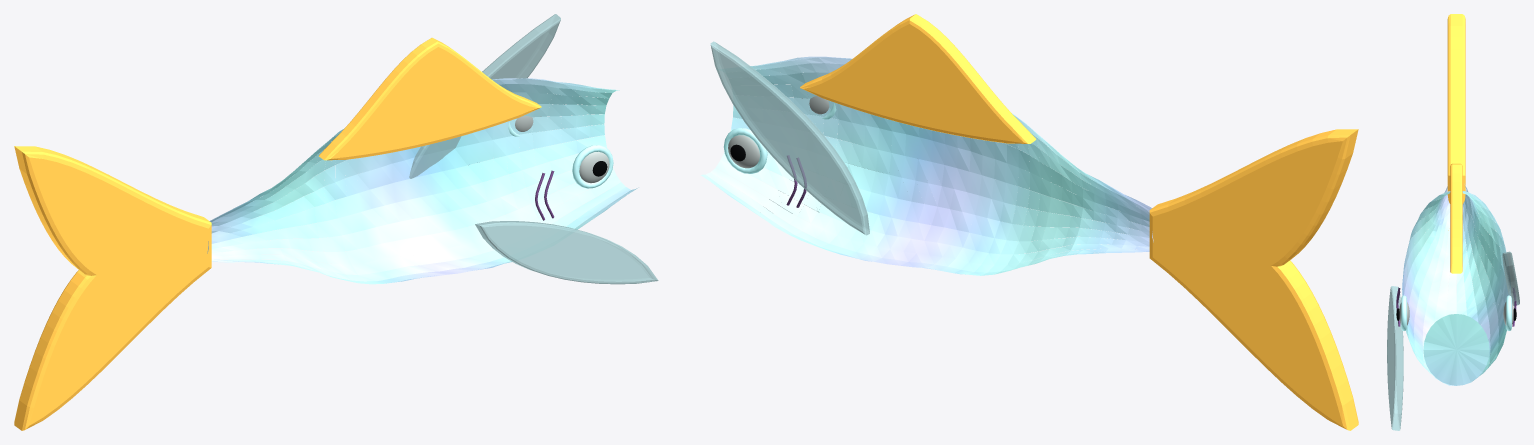
The model's file is prism-fish.glb.
3 views of the same model, side by side, from view 1: azimuth 30°, elevation 25°; view 2: azimuth 150°, elevation 25°; view 3: azimuth 270°, elevation 25° (orthographic). The views are drawn at different scales.
Visible parts, largest first — view 1: body, tail_fin, dorsal_fin, pectoral_fin (×2), eye_socket; view 2: body, tail_fin, dorsal_fin, pectoral_fin, eye_socket, eye; view 3: body, tail_fin, pectoral_fin (×2), dorsal_fin, eye_socket (×2).
Part boxes in pixels (x1=…): body: x1=207, y1=78, x2=638, y2=284; tail_fin: x1=14, y1=146, x2=211, y2=430; dorsal_fin: x1=319, y1=37, x2=541, y2=160; pectoral_fin (×2): x1=409, y1=14, x2=658, y2=284; eye_socket: x1=572, y1=145, x2=613, y2=188; body: x1=701, y1=56, x2=1153, y2=275; tail_fin: x1=1149, y1=129, x2=1358, y2=430; dorsal_fin: x1=800, y1=14, x2=1036, y2=143; pectoral_fin: x1=710, y1=41, x2=869, y2=235; eye_socket: x1=723, y1=128, x2=767, y2=173; eye: x1=728, y1=135, x2=759, y2=168; body: x1=1402, y1=184, x2=1510, y2=385; tail_fin: x1=1447, y1=14, x2=1465, y2=230; pectoral_fin (×2): x1=1387, y1=251, x2=1519, y2=430; dorsal_fin: x1=1450, y1=163, x2=1462, y2=273; eye_socket (×2): x1=1401, y1=295, x2=1511, y2=330.
Size of the model in its own units: 2.99 by 1.35 by 0.734.
